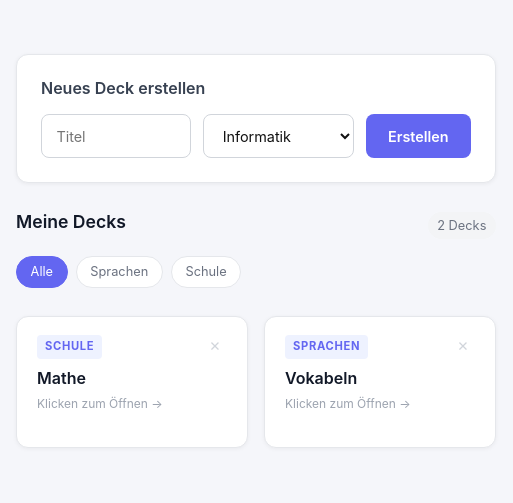
Test: DeckList › zeigt Fehlermeldung wenn POST fehlschlägt
Type "Physik" into the field with placeholder "Titel" at (116, 136), box [41,114,191,158]
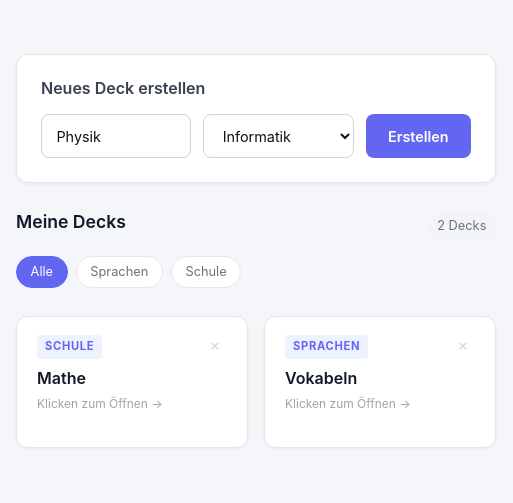
Select "Mathematik" in the dropdown named "Kategorie" at (278, 136), box [203,114,354,158]
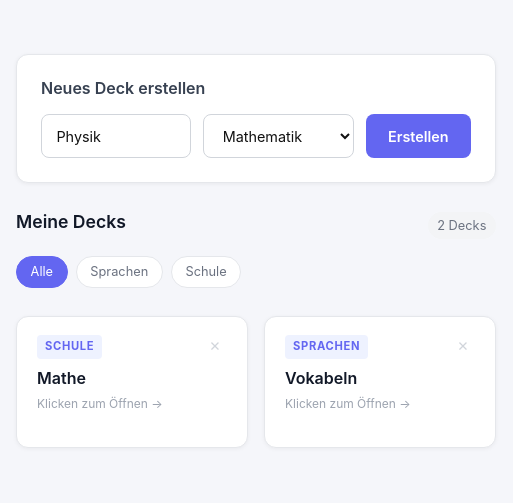
Submit the form, box [41,114,471,158]
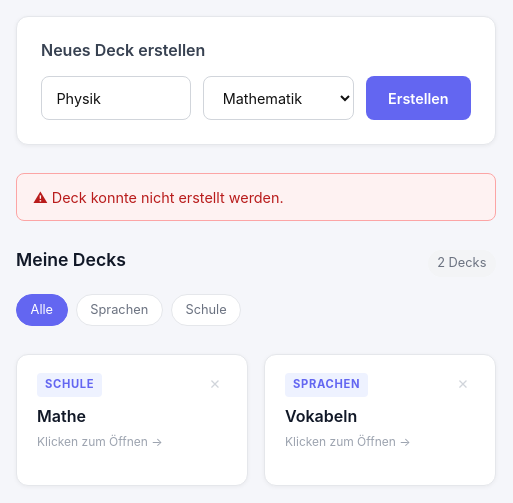
Expected: the text "Deck konnte nicht erstellt werden." is shown, [33,189,284,206]
